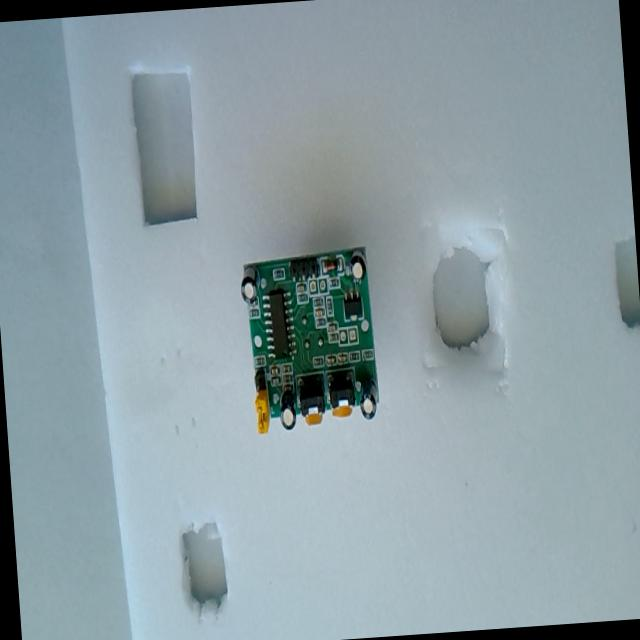Electrolytic capacitor: (358, 376, 379, 421), (278, 388, 297, 432), (240, 266, 260, 306), (348, 249, 366, 282)
IC: (262, 290, 296, 360)
pinheader: (290, 257, 320, 282)
